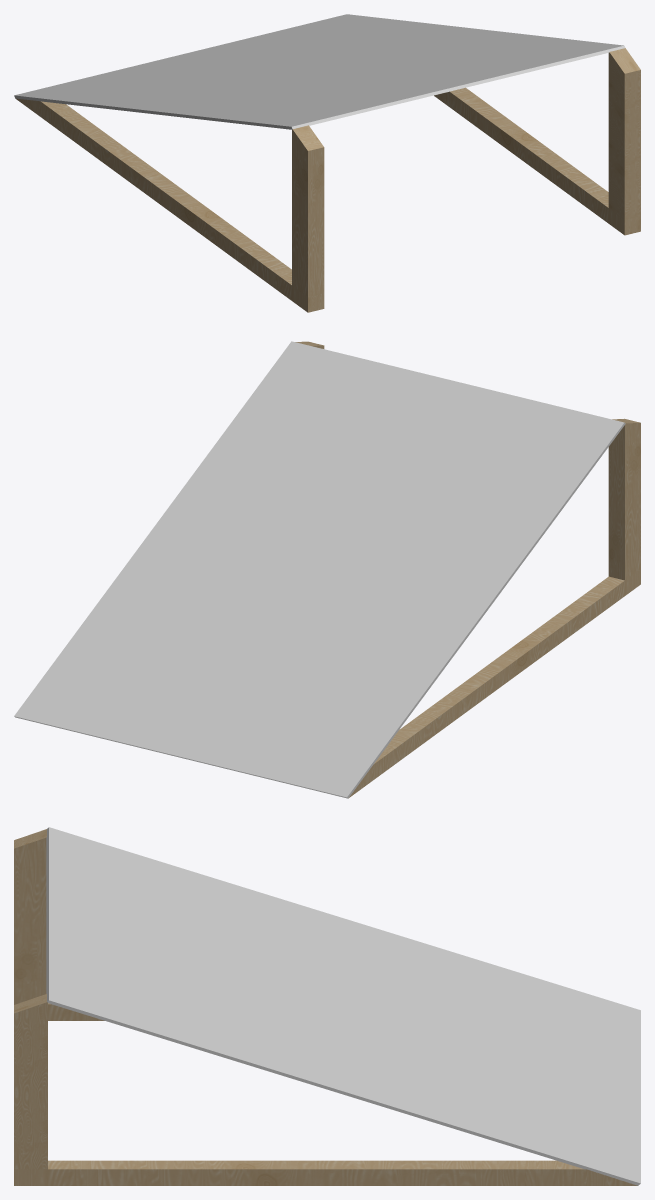
The model's file is Rampa.fbx.
3 views of the same model, one above another, from view 1: azimuth 30°, elevation 25°; view 2: azimuth 150°, elevation 25°; view 3: azimuth 270°, elevation 25° (orthographic). The views are drawn at different scales.
Parts seen in each view (by area): view 1: Cube.001; view 2: Cube.001; view 3: Cube.001.
Part boxes in pixels (bbox=[...]): Cube.001: bbox=[14, 14, 640, 312]; Cube.001: bbox=[14, 341, 640, 798]; Cube.001: bbox=[14, 827, 640, 1185].
Bounding box in the file's own units: 600 × 300 × 918.
